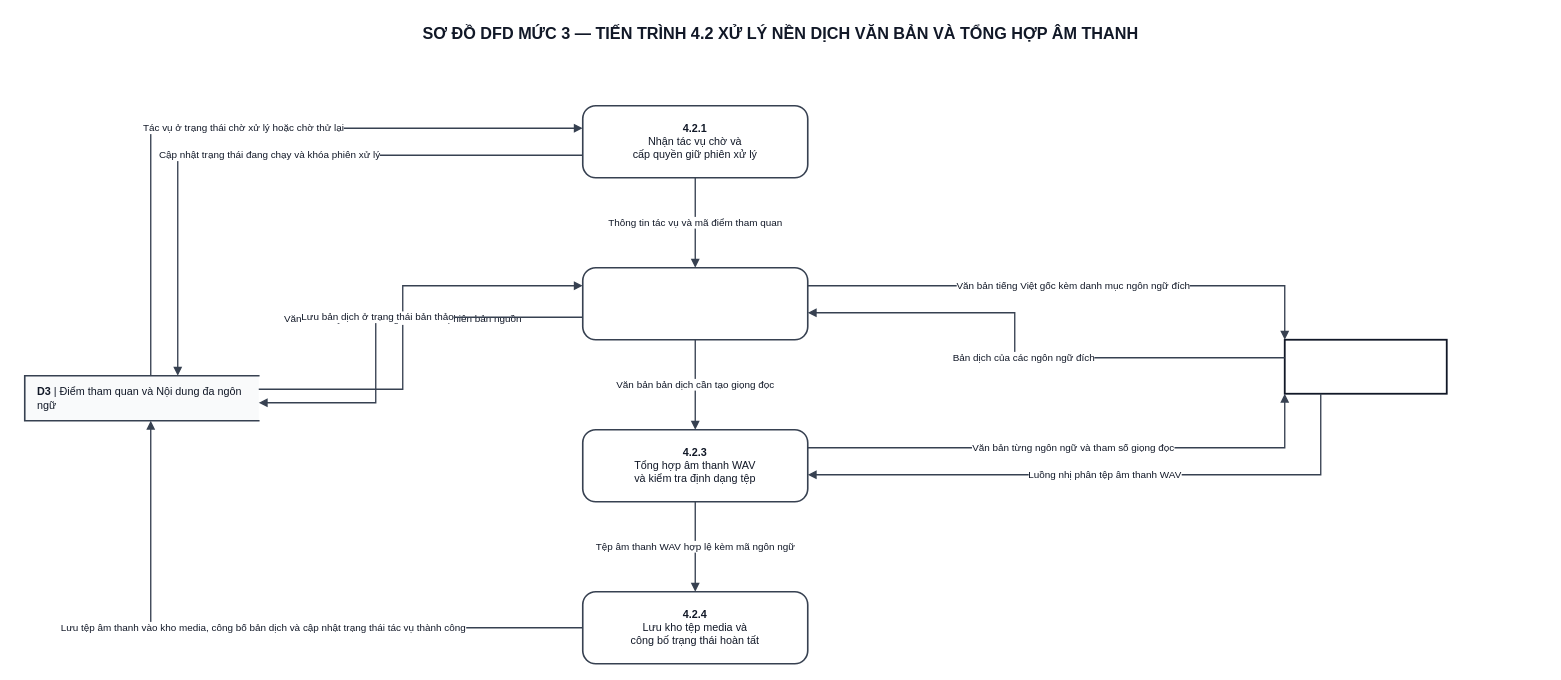
The diagram is 1561 pixels wide and 680 high, and some of its shapes have lost their labels. The centre of each missing label's shape, as x and y in pixels:
"4.2.2 Kiểm tra phiên bản nguồn và dịch văn bản đa ngôn ngữ" belongs at point 694,303.
"Dịch vụ dịch và TTS" belongs at point 1365,366.
